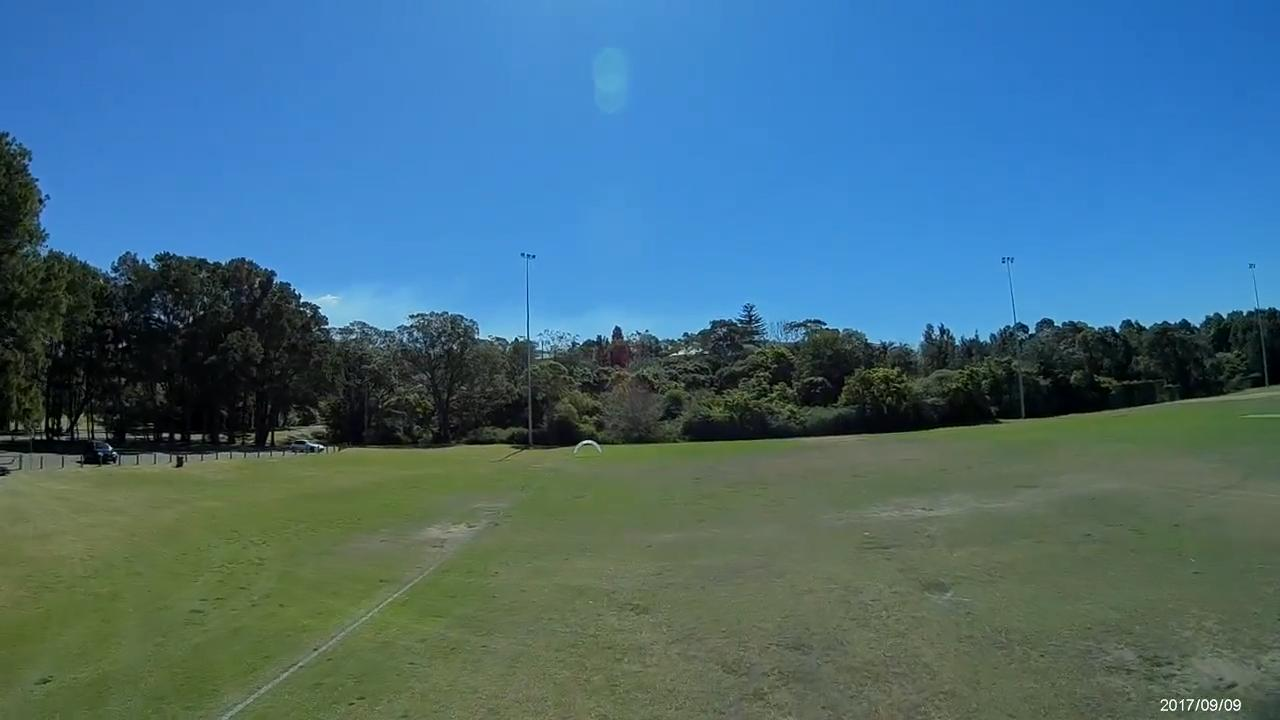gate: (572, 439, 602, 454)
